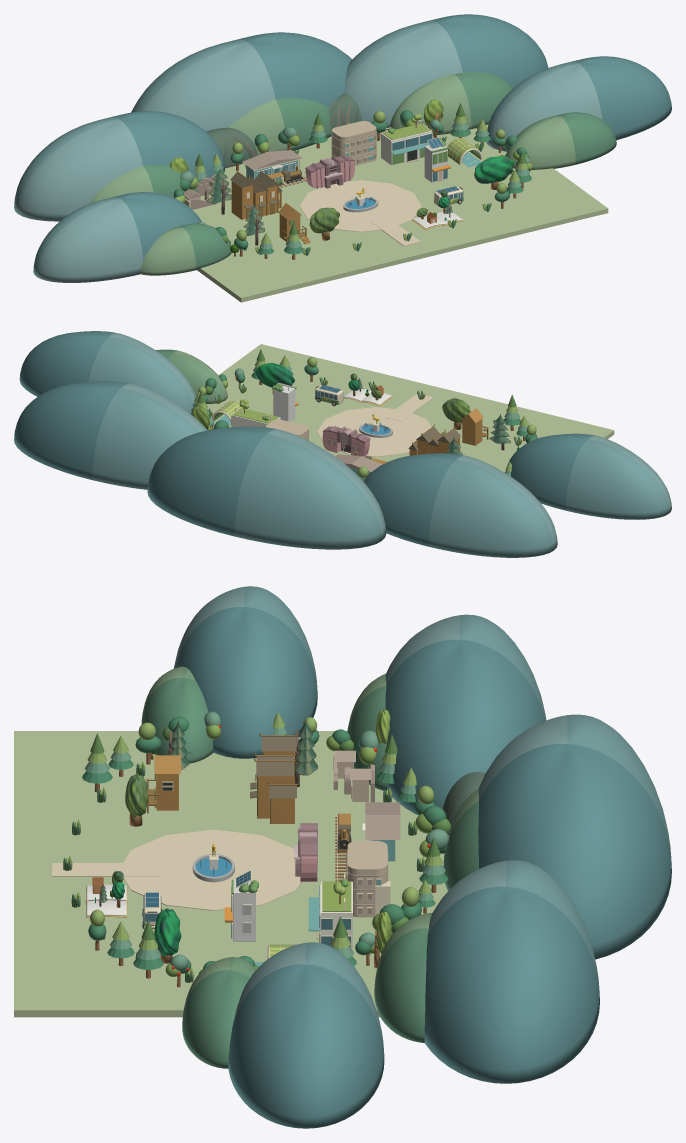
Rendered from chiayi-v4.glb.
3 views of the same model, one above another, from view 1: azimuth 30°, elevation 25°; view 2: azimuth 150°, elevation 25°; view 3: azimuth 270°, elevation 25° (orthographic). The views are drawn at different scales.
Visible parts, largest first — view 1: Town ground, hill_teal.002, hill_teal.001, hill_teal.003, hill_teal.005, hill_teal.004, hill_green.005, hill_green.003, Drawing dance plaza, hill_green.004, hill_green.002, hill_green.001 (+14 smaller); view 2: hill_teal.002, hill_teal.001, hill_teal.003, Town ground, hill_teal.004, hill_teal.005, Drawing dance plaza, hill_green.005, 01_traditional_house, 04_solar_townhouse, 05_rooftop_garden_building, 06_wooden_hut (+8 smaller); view 3: Town ground, hill_teal.003, hill_teal.002, hill_teal.005, hill_teal.001, hill_teal.004, Drawing dance plaza, hill_green.003, hill_green.005, hill_green.004, 01_traditional_house, 07_curved_apartment (+15 smaller).
Boxes of the visible parts, x1,y1,x2,y2 form: Town ground: (193, 124, 608, 302); hill_teal.002: (131, 32, 351, 131); hill_teal.001: (14, 111, 224, 221); hill_teal.003: (344, 14, 548, 130); hill_teal.005: (486, 56, 671, 151); hill_teal.004: (33, 192, 201, 282); hill_green.005: (506, 112, 616, 169); hill_green.003: (390, 72, 513, 135); Drawing dance plaza: (299, 180, 421, 232); hill_green.004: (140, 223, 231, 275); hill_green.002: (228, 98, 331, 155); hill_green.001: (89, 165, 197, 203); hill_teal.002: (147, 426, 386, 549); hill_teal.001: (364, 453, 557, 557); hill_teal.003: (14, 381, 207, 489); Town ground: (206, 344, 614, 472); hill_teal.004: (507, 433, 671, 519); hill_teal.005: (19, 331, 196, 413); Drawing dance plaza: (317, 407, 431, 456); hill_green.005: (155, 349, 227, 403); 01_traditional_house: (408, 424, 460, 455); 04_solar_townhouse: (272, 382, 298, 421); 05_rooftop_garden_building: (231, 399, 280, 427); 06_wooden_hut: (461, 408, 488, 445); Town ground: (14, 731, 447, 1017); hill_teal.003: (424, 860, 599, 1083); hill_teal.002: (478, 714, 671, 959); hill_teal.005: (228, 942, 384, 1128); hill_teal.001: (385, 614, 546, 815); hill_teal.004: (173, 586, 317, 758); Drawing dance plaza: (123, 829, 301, 910); hill_green.003: (374, 913, 432, 1042); hill_green.005: (182, 957, 255, 1068); hill_green.004: (141, 666, 213, 763); 01_traditional_house: (250, 733, 298, 823); 07_curved_apartment: (346, 840, 390, 917).
Size of the model in its own units: 76.3 by 9.6 by 42.8.
Materials: 144 (7 with a texture image).
